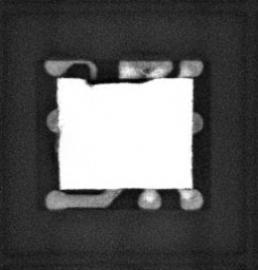DIE_BROKEN: (80, 76, 156, 87)
